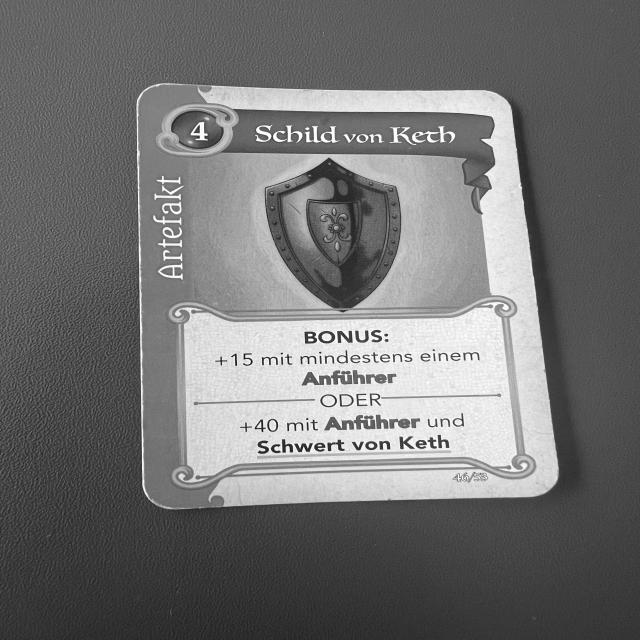Shield Of Keth: (121, 78, 566, 522)
